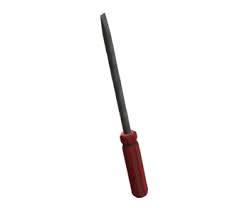screwdriver: (98, 11, 150, 198)
